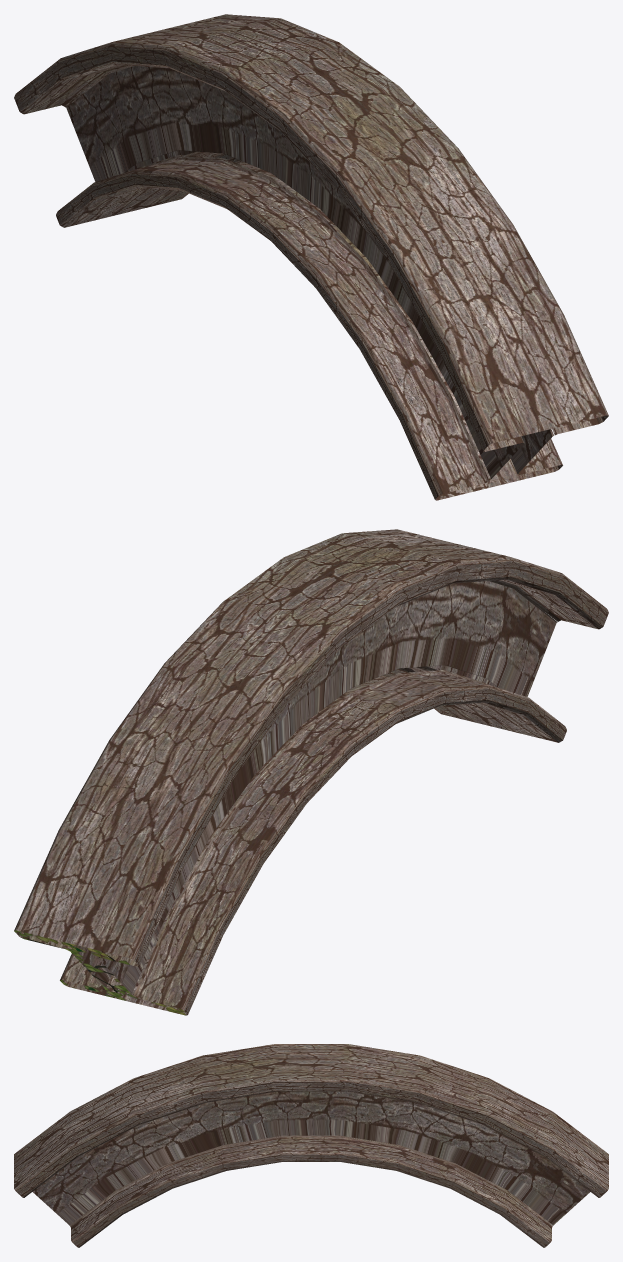
The model's file is balk_90.FBX.
The picture shows the model from 3 angles, top to bottom: view 1: azimuth 30°, elevation 25°; view 2: azimuth 150°, elevation 25°; view 3: azimuth 270°, elevation 25°; orthographic projection. The views are drawn at different scales.
Visible parts, largest first — view 1: balk_90; view 2: balk_90; view 3: balk_90.
Part boxes in pixels (bbox=[...]): balk_90: bbox=[14, 14, 608, 500]; balk_90: bbox=[14, 529, 608, 1015]; balk_90: bbox=[14, 1044, 608, 1247].
Bounding box in the file's own units: 3.1 × 20.63 × 6.48.
